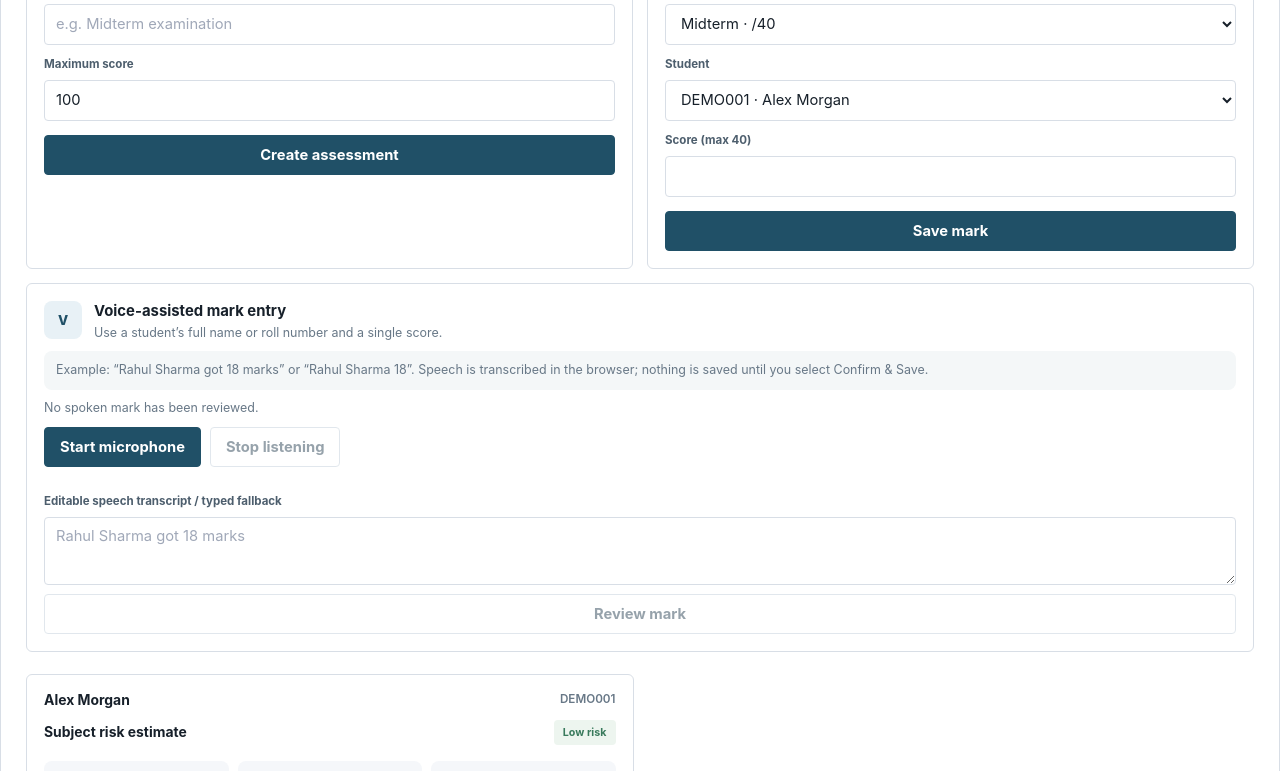
Test: academic workspace › converts a browser speech result into a proposal without saving it
This screenshot has width=1280, height=771.
(page scrolled)
Click the button "Start microphone" at (122, 447), box [44,427,201,467]
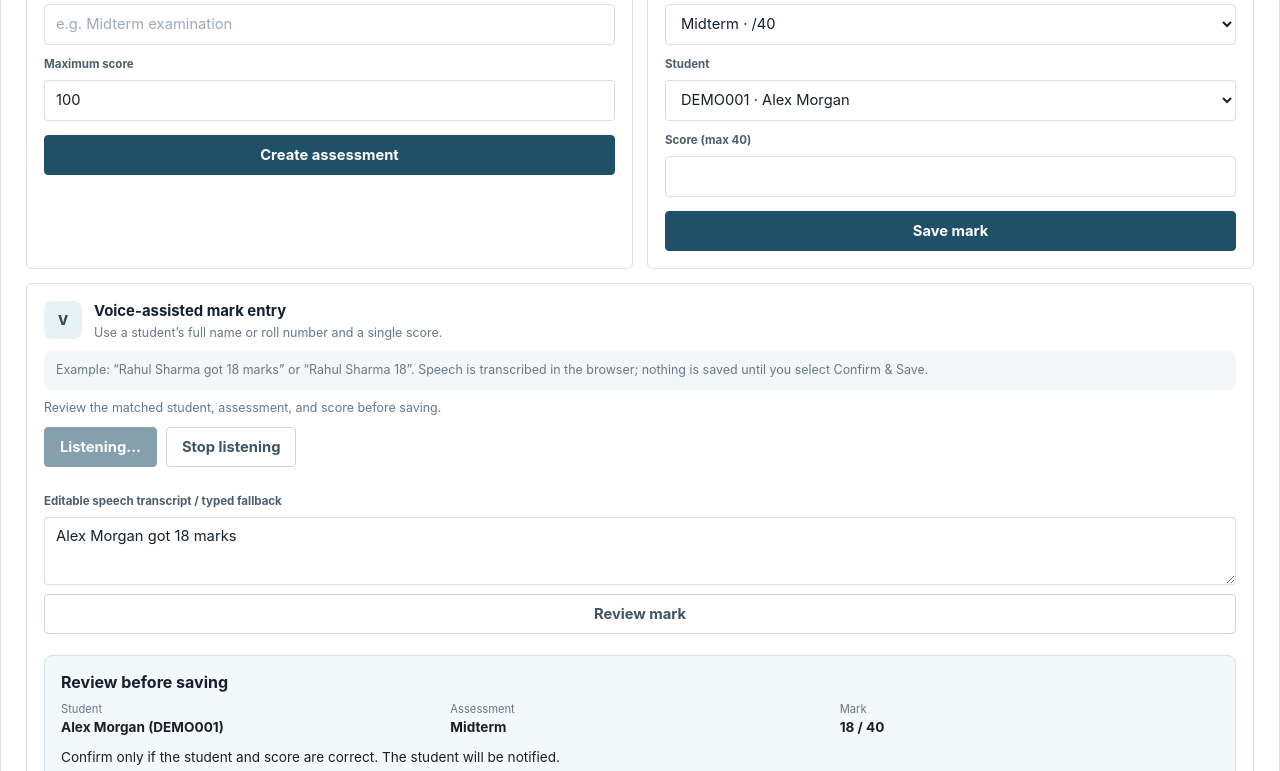
Result: the text box labelled "Editable speech transcript / typed fallback" holds "Alex Morgan got 18 marks" at [44,517,1236,585]
